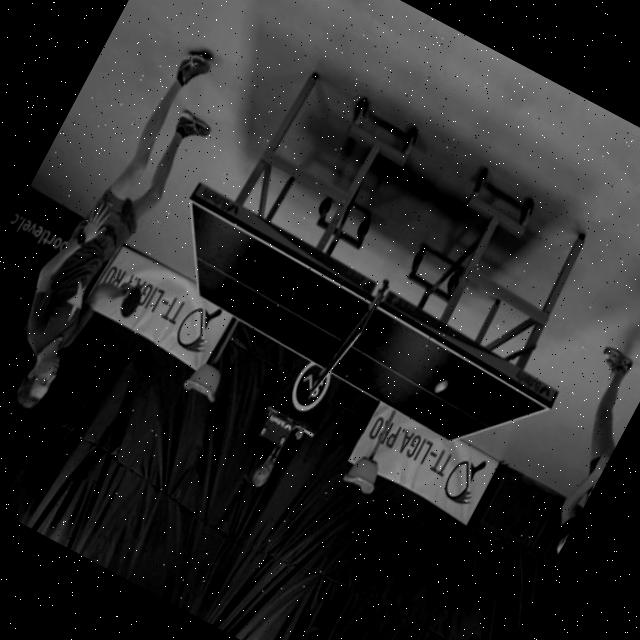ping-pong-ball: (429, 375, 451, 399)
